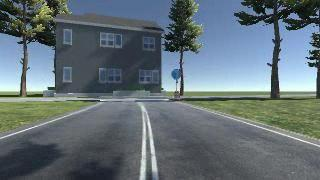turn_left: (171, 69, 181, 79)
